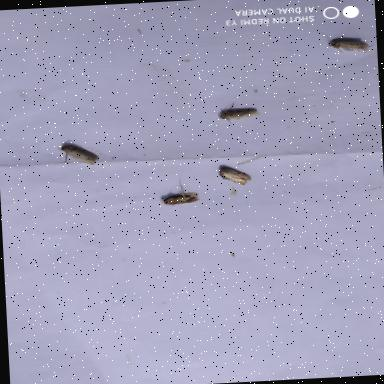pbw: (311, 26, 376, 58), (158, 173, 207, 212), (54, 137, 102, 170), (216, 98, 265, 124), (215, 163, 256, 189)
